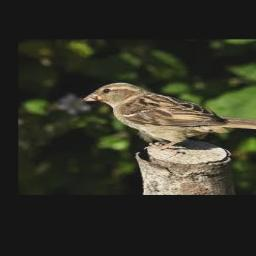Sparrow: (83, 82, 256, 149)
